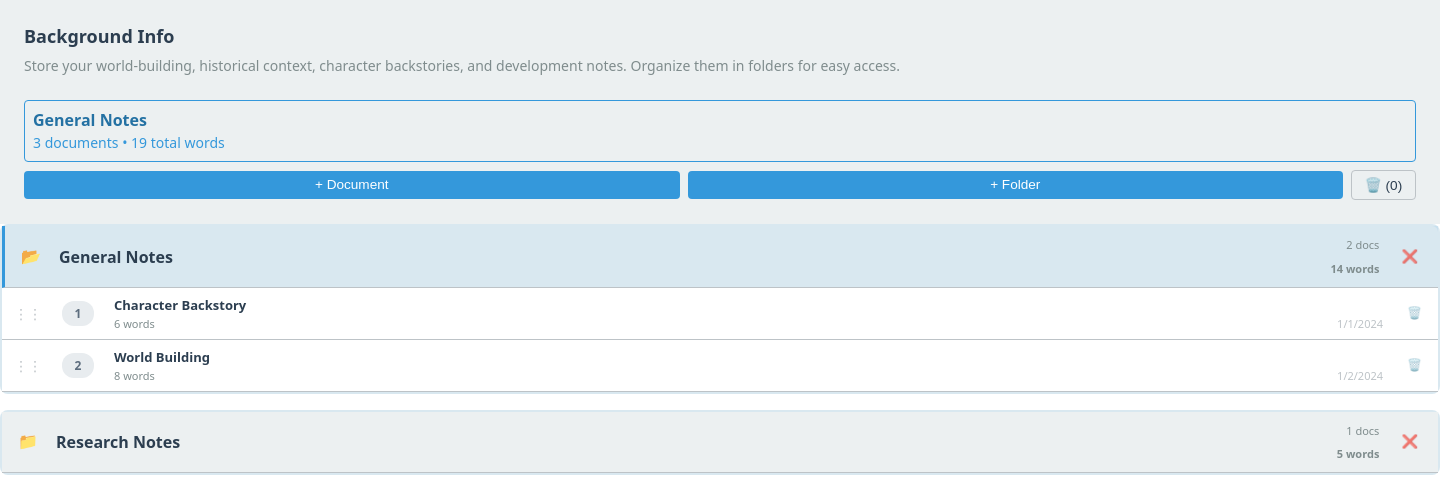
Test: BackgroundList Component › toggles folder expansion when folder toggle is clicked
The width and height of the screenshot is (1440, 492).
Click the button titled "Collapse folder" at (31, 257), box [21,247,41,266]
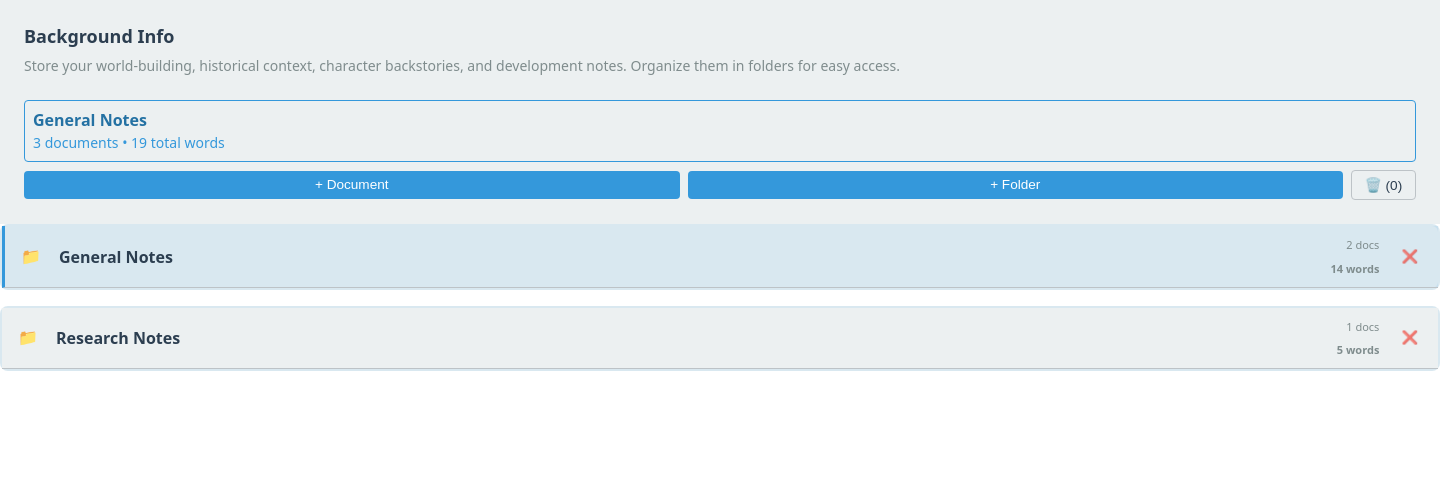
Now the text "Character Backstory" is gone
